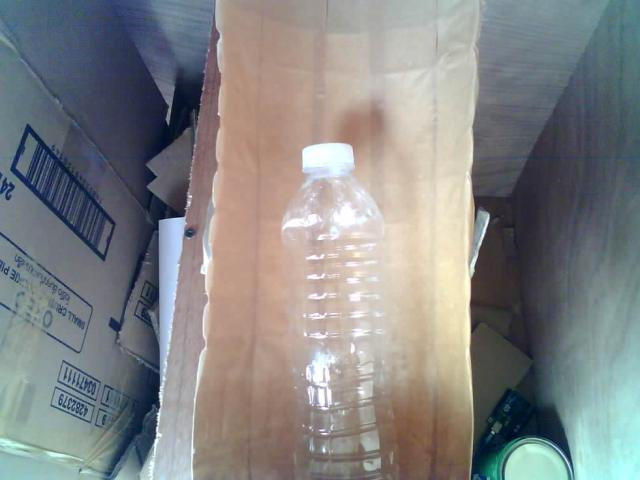small_bottle: (271, 138, 418, 480)
